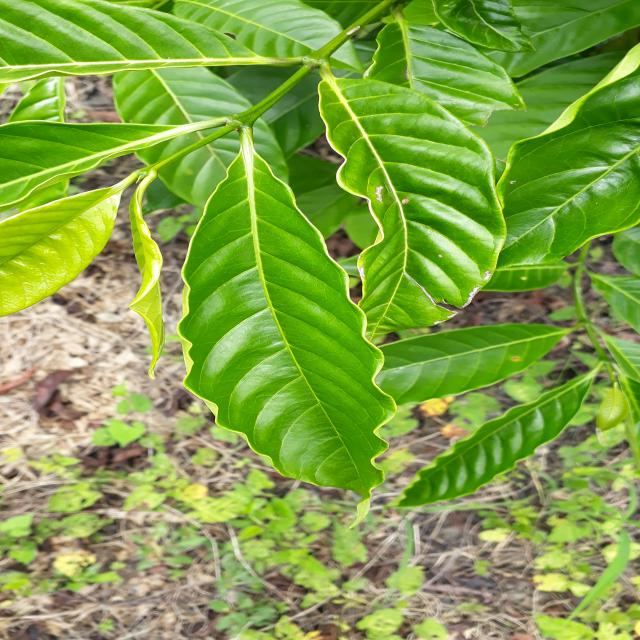Sanas: (175, 154, 400, 499)
